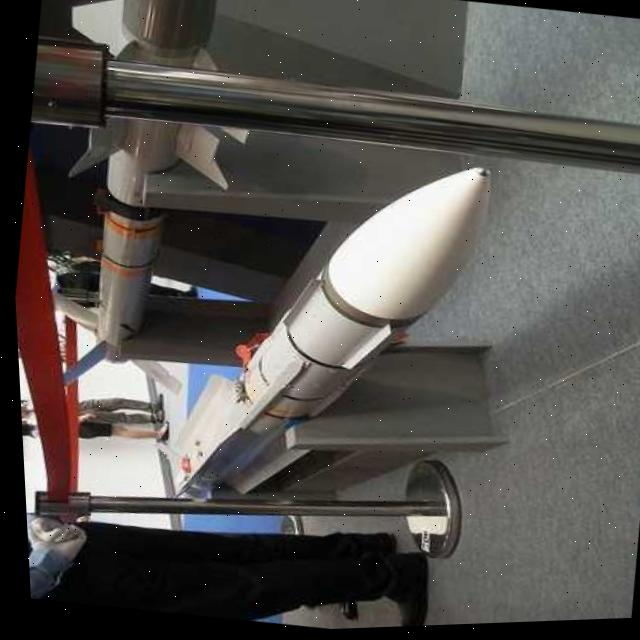missile: (141, 126, 514, 540), (24, 0, 254, 397)
